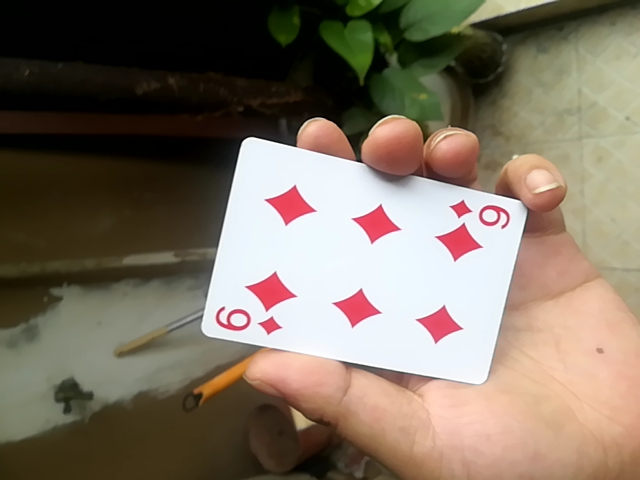fk 6: (191, 135, 523, 384)
